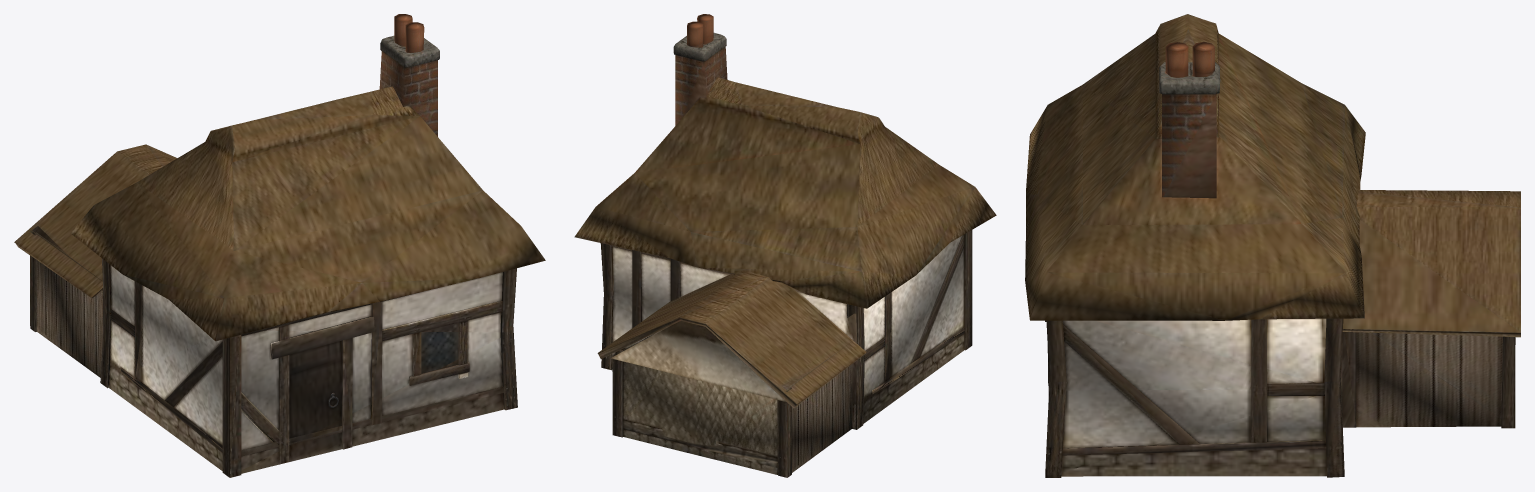
File: building-cottage-02.glb
3 renders of one model, left to right at view 1: azimuth 30°, elevation 25°; view 2: azimuth 150°, elevation 25°; view 3: azimuth 270°, elevation 25°, orthographic. The views are drawn at different scales.
Visible parts, largest first — view 1: turn; view 2: turn; view 3: turn.
Boxes of the visible parts, left/top/right/bottom form: turn: left=14, top=14, right=545, bottom=477; turn: left=574, top=14, right=996, bottom=477; turn: left=1025, top=14, right=1520, bottom=477.
Bounding box in the file's own units: 0.8525 × 0.8628 × 0.9541.
Materials: 1 (1 with a texture image).
